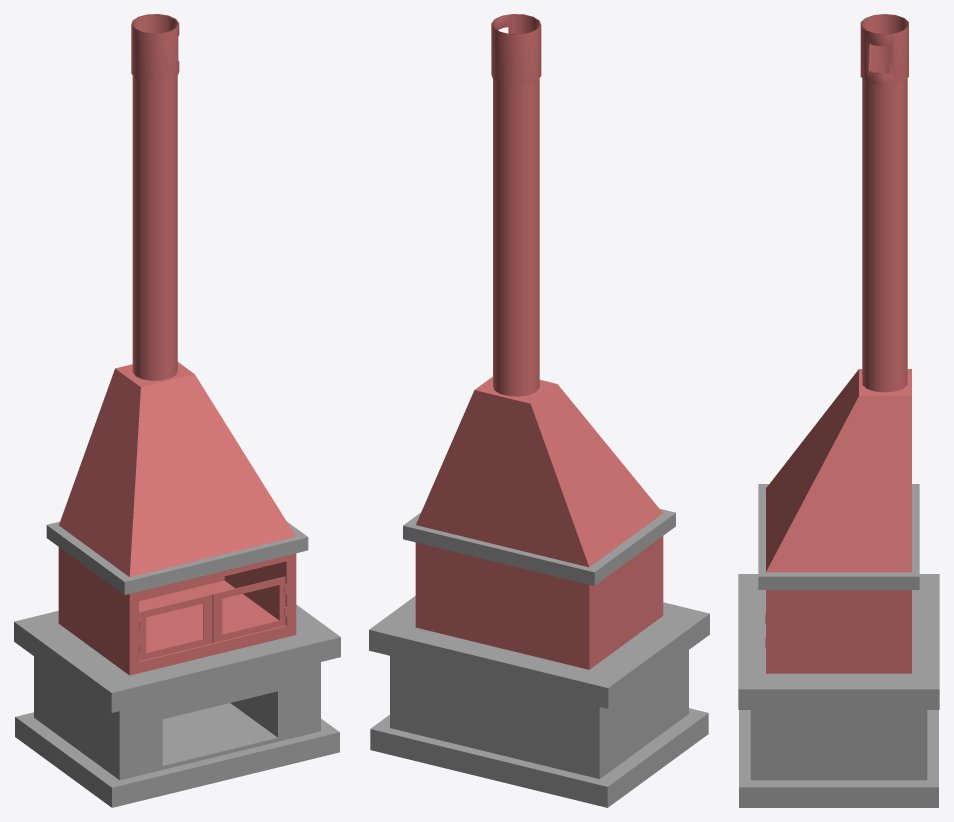
Rendered from Fireplace2.fbx.
The picture shows the model from 3 angles, left to right: view 1: azimuth 30°, elevation 25°; view 2: azimuth 150°, elevation 25°; view 3: azimuth 270°, elevation 25°; orthographic projection. The views are drawn at different scales.
Parts seen in each view (by area): view 1: pCube54; view 2: pCube54; view 3: pCube54.
Boxes of the visible parts, box(x1,y1,x2,y2) form: pCube54: box(14, 14, 340, 807); pCube54: box(369, 14, 709, 807); pCube54: box(738, 14, 939, 807).
Bounding box in the file's own units: 27.78 × 81.53 × 20.48.
